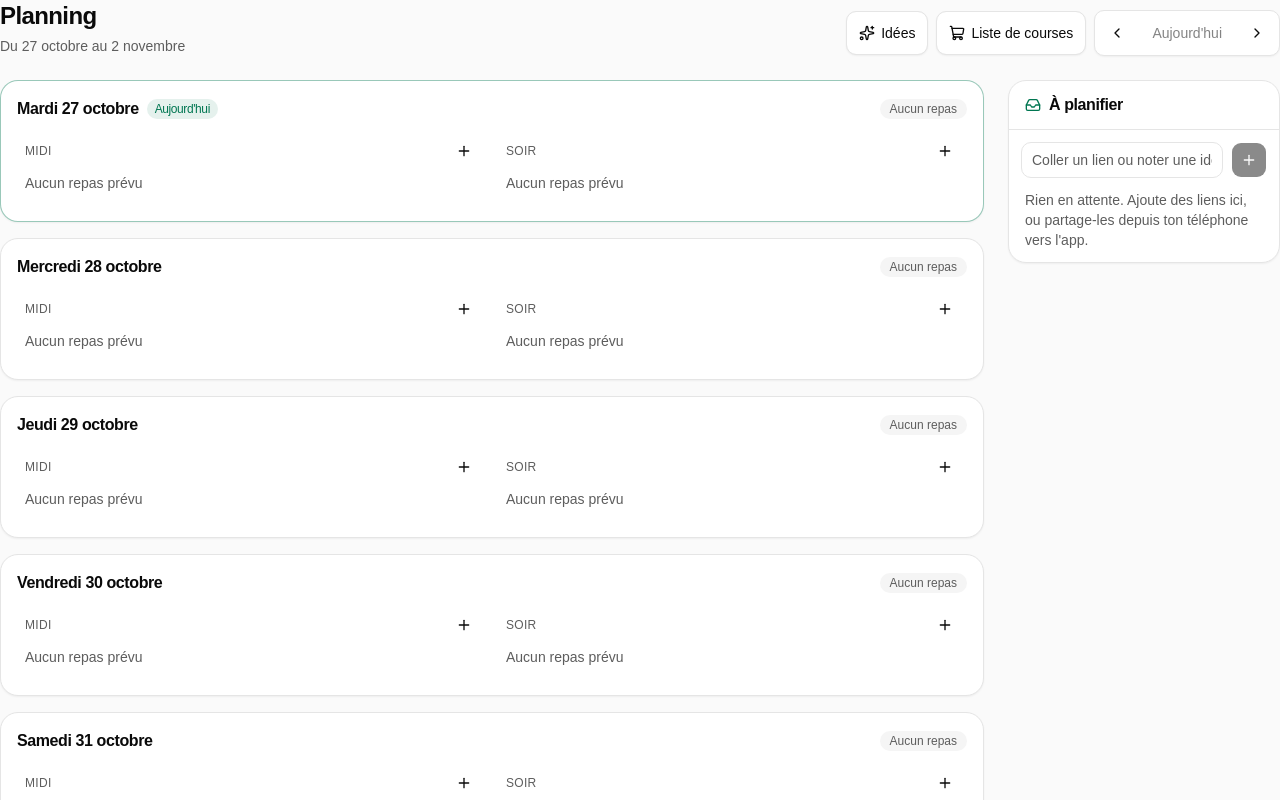
Scenario: PlanningPage — idées de repas › ajoute les idées cochées à « À planifier »
Step 1. Click the button with aria-label "Idées de repas" → (887, 33), box [846,11,928,55]
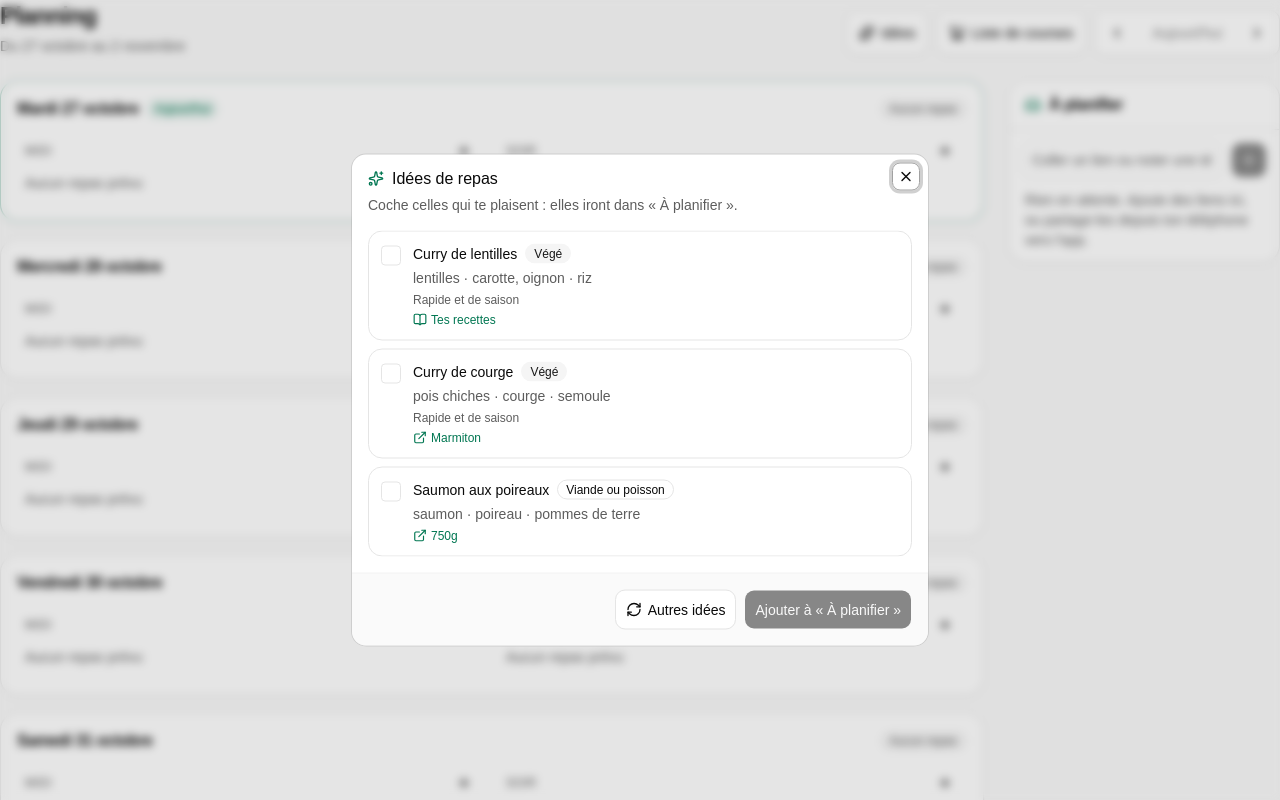
Check: the list named "Idées proposées" is shown, box [368,230,912,556]
Step 2. Click the checkbox named "Curry de lentilles" next to "Curry de lentilles" → (391, 256), box [381,246,401,266]
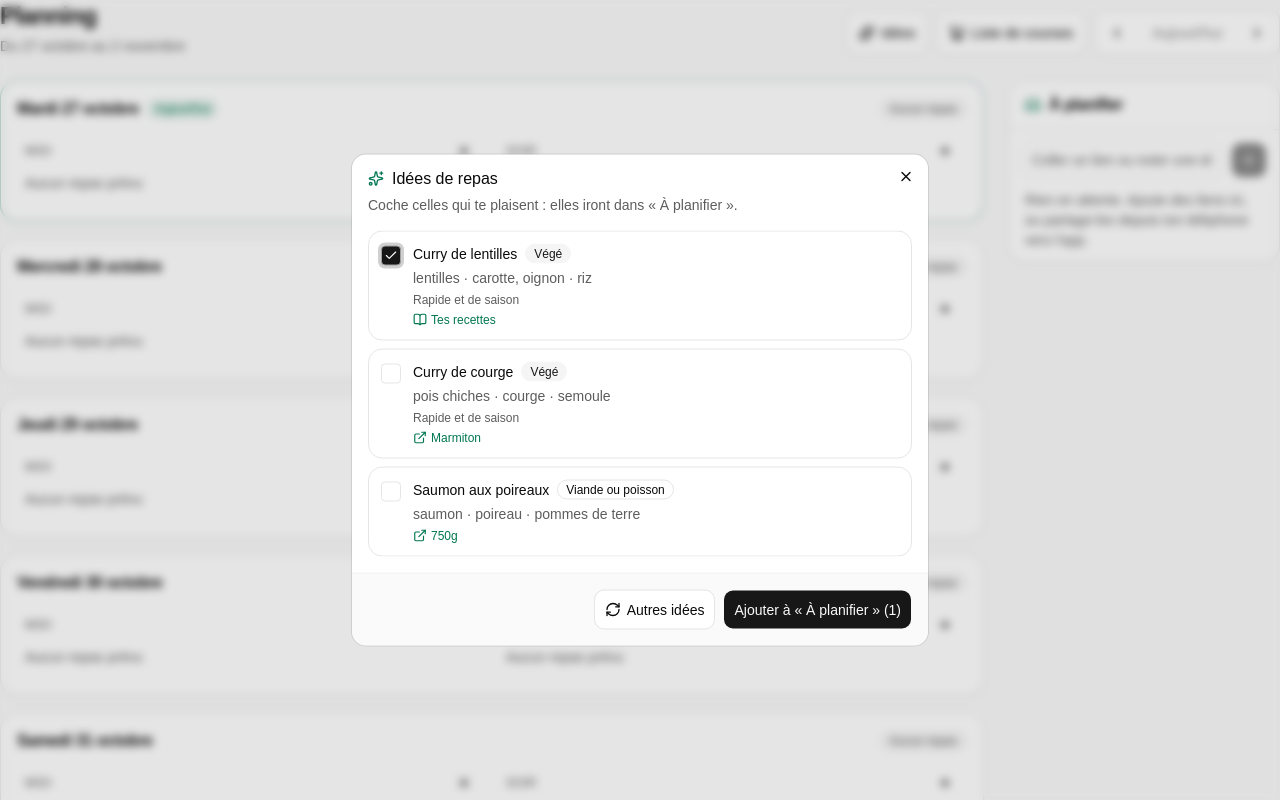
Step 3. Click the checkbox named "Saumon aux poireaux" next to "Saumon aux poireaux" → (391, 492), box [381,482,401,502]
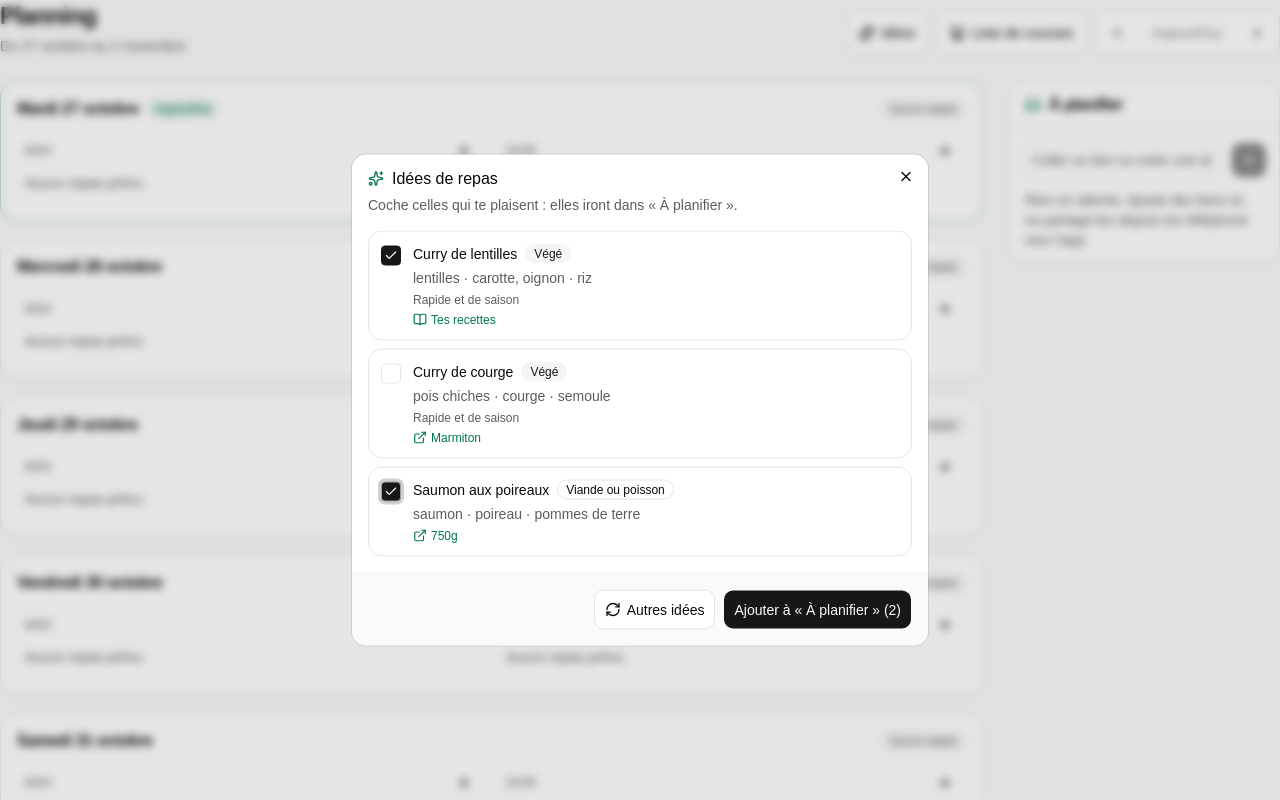
Step 4. Click the button "Ajouter à « À planifier » (2)" → (818, 610), box [724,590,912,630]
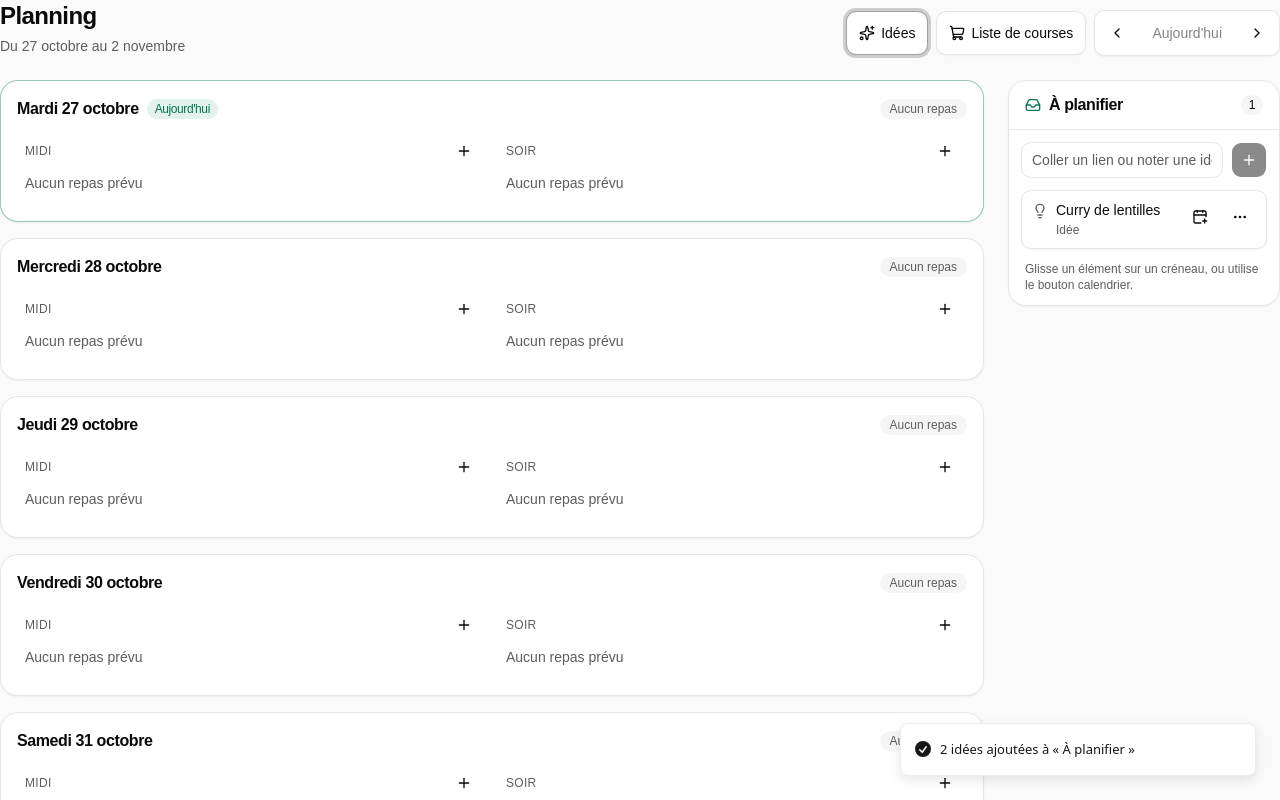
Check: the text "2 idées ajoutées à « À planifier »" is shown, box [940,740,1135,759]
Check: the dialog is gone
